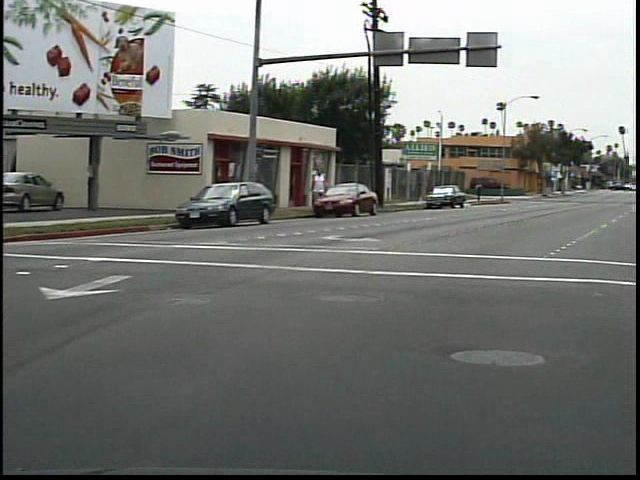person: (314, 162, 338, 213), (478, 178, 490, 206)
